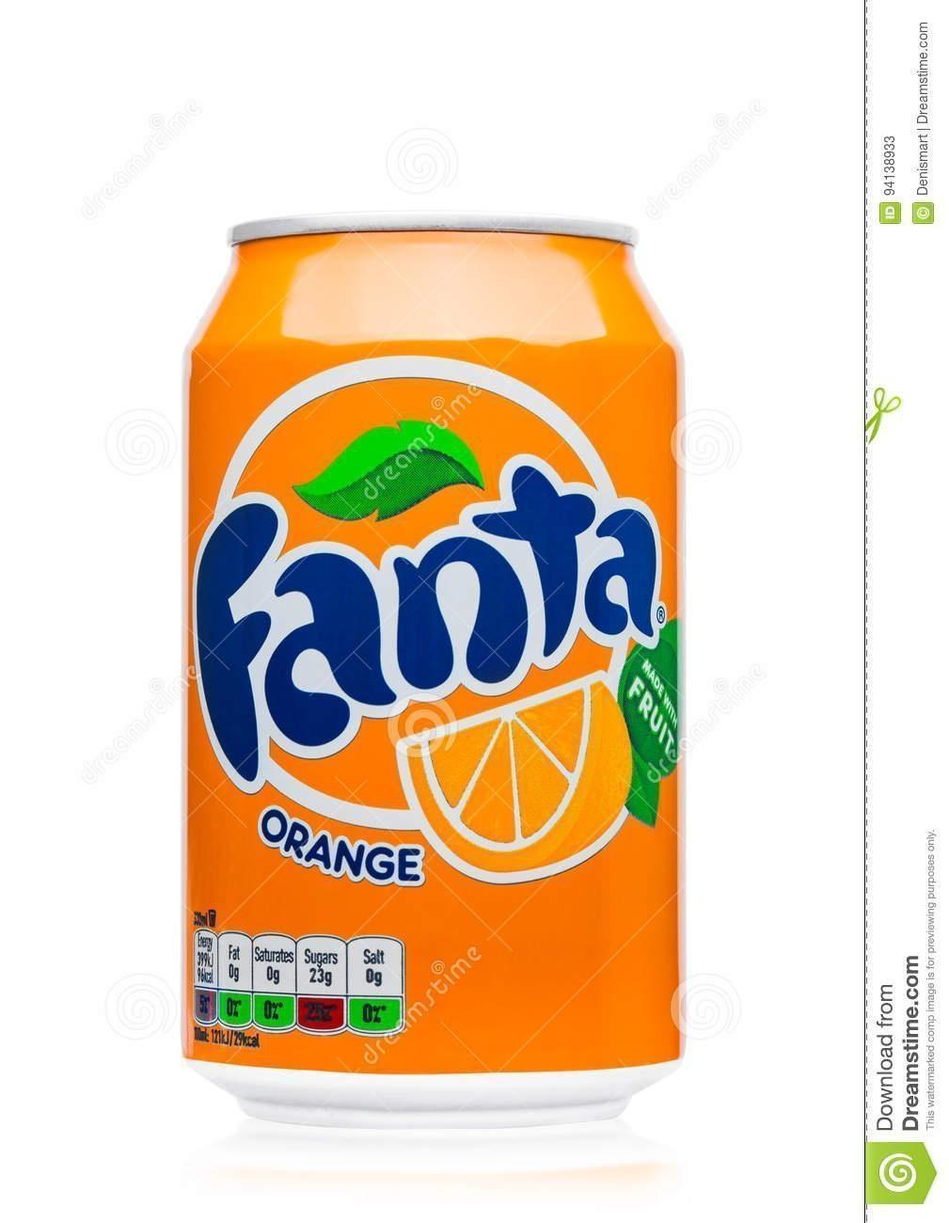tin can: (178, 207, 688, 1135)
